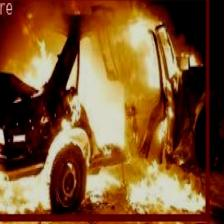fire: (0, 0, 208, 219)
